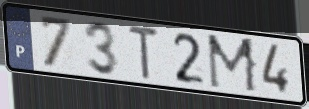2: (171, 31, 207, 88)
3: (82, 20, 120, 77)
4: (261, 43, 293, 96)
7: (39, 14, 74, 70)
M: (205, 33, 260, 96)
T: (127, 23, 161, 82)
